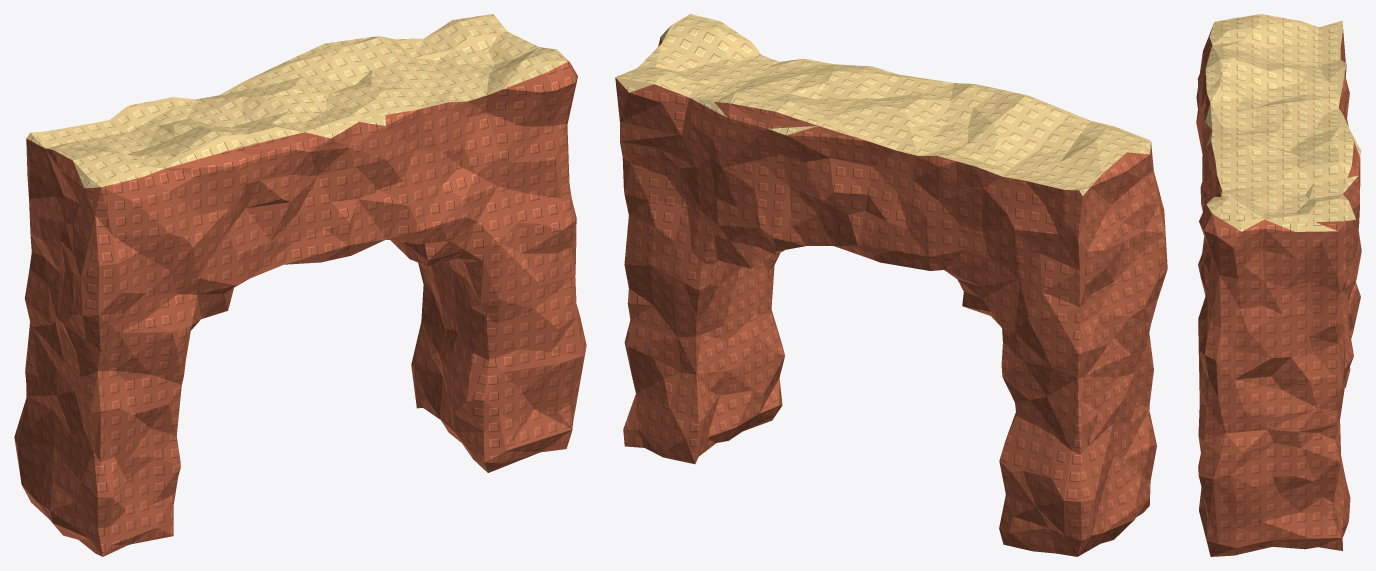
The model's file is DesertArch.glb.
The picture shows the model from 3 angles, left to right: view 1: azimuth 30°, elevation 25°; view 2: azimuth 150°, elevation 25°; view 3: azimuth 270°, elevation 25°; orthographic projection. The views are drawn at different scales.
Visible parts, largest first — view 1: DesertArch_Rock, DesertArch_Top; view 2: DesertArch_Rock, DesertArch_Top; view 3: DesertArch_Rock, DesertArch_Top.
Part boxes in pixels (x1,y1,x2,y2): DesertArch_Rock: [14, 61, 586, 556]; DesertArch_Top: [26, 14, 568, 188]; DesertArch_Rock: [615, 37, 1167, 556]; DesertArch_Top: [615, 14, 1150, 195]; DesertArch_Rock: [1196, 24, 1361, 556]; DesertArch_Top: [1205, 14, 1361, 231].
Size of the model in its own units: 33.79 by 25.51 by 10.79.
2 materials, 2 textured.
